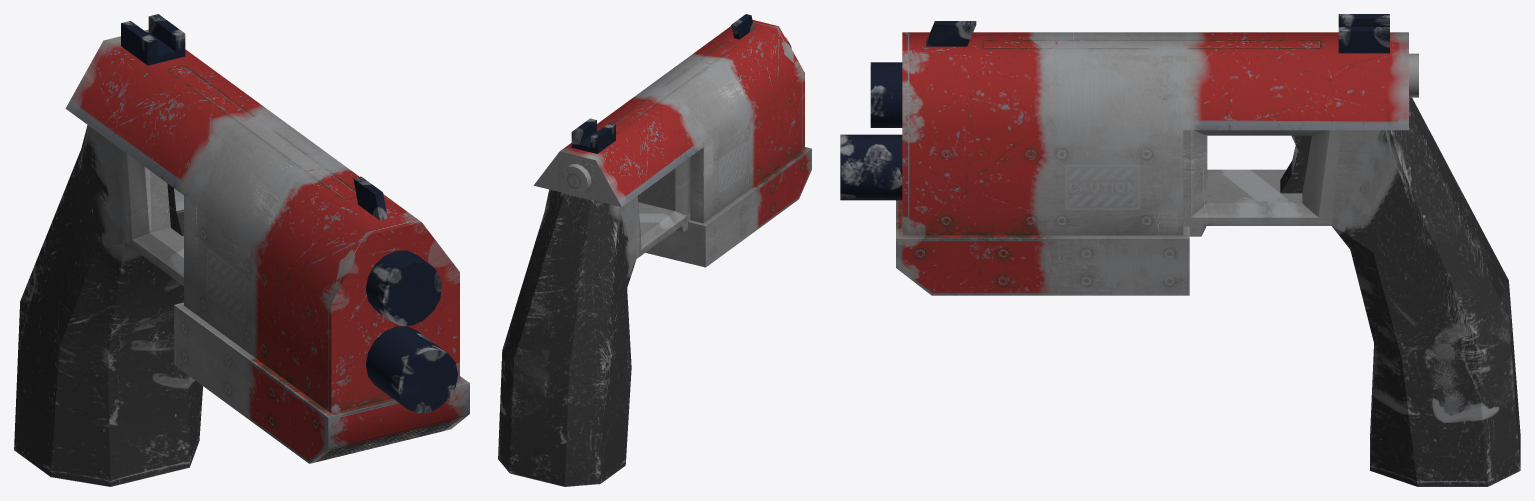
The model's file is sci_fi_pistol.gltf.
3 renders of one model, left to right at view 1: azimuth 30°, elevation 25°; view 2: azimuth 150°, elevation 25°; view 3: azimuth 270°, elevation 25°, orthographic. The views are drawn at different scales.
Visible parts, largest first — view 1: base_low, handle_low, gun_low, aim_low, doggy_low; view 2: handle_low, base_low, aim_low, gun_low; view 3: base_low, handle_low, gun_low, aim_low, doggy_low.
Boxes of the visible parts, x1=… form: base_low: x1=65, y1=29, x2=469, y2=463; handle_low: x1=14, y1=125, x2=202, y2=486; gun_low: x1=366, y1=250, x2=457, y2=413; aim_low: x1=121, y1=14, x2=387, y2=220; doggy_low: x1=167, y1=183, x2=183, y2=235; handle_low: x1=498, y1=157, x2=690, y2=486; base_low: x1=533, y1=20, x2=811, y2=267; aim_low: x1=571, y1=14, x2=754, y2=153; gun_low: x1=560, y1=37, x2=791, y2=195; base_low: x1=896, y1=32, x2=1408, y2=295; handle_low: x1=1183, y1=97, x2=1520, y2=486; gun_low: x1=840, y1=53, x2=1418, y2=200; aim_low: x1=926, y1=14, x2=1389, y2=53; doggy_low: x1=1280, y1=135, x2=1311, y2=193.
Size of the model in its own units: 0.0444 by 0.1288 by 0.1847.
1 material, 1 textured.
